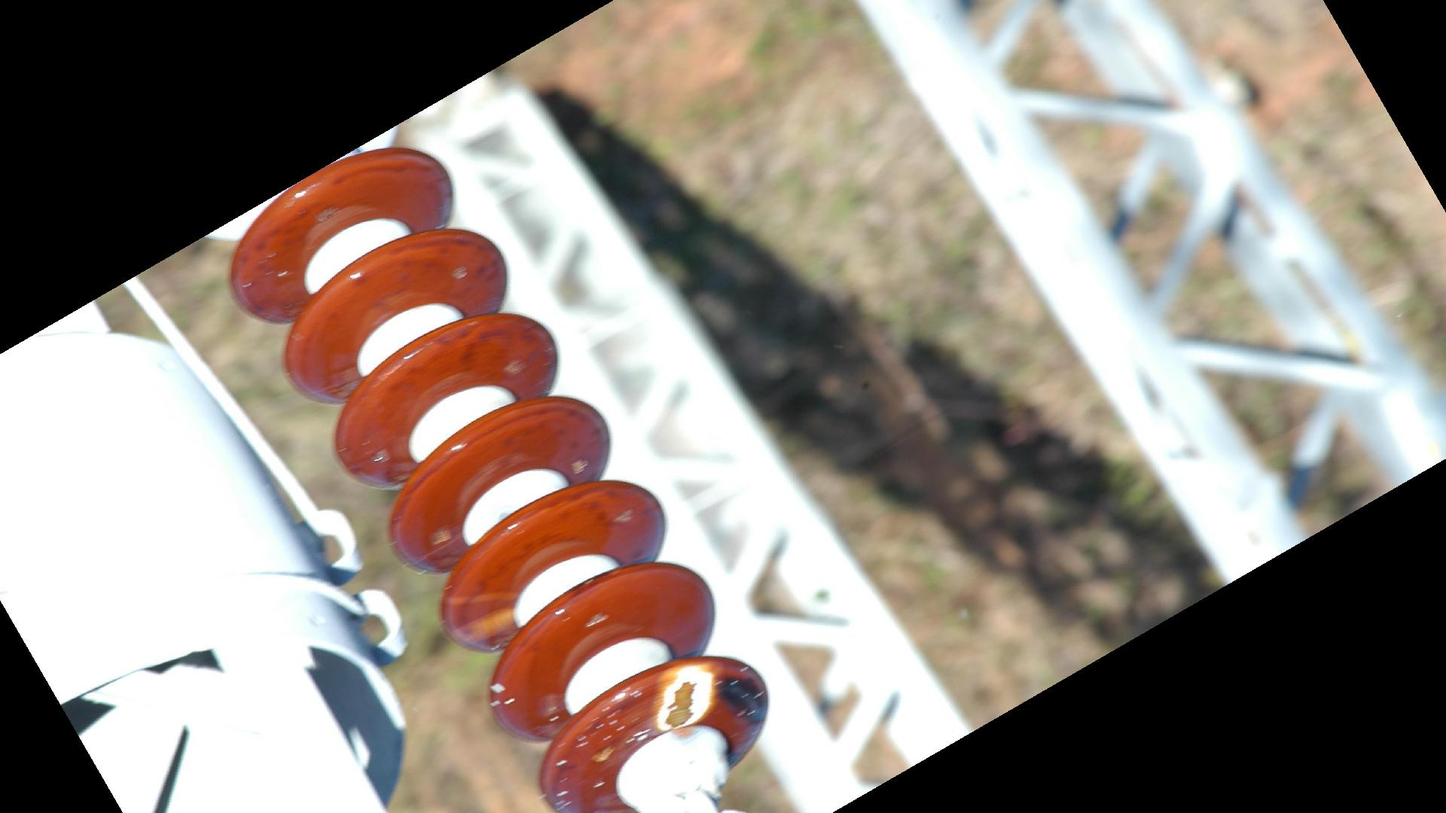insulator: (220, 141, 776, 813)
insulator_flashover: (654, 661, 717, 734), (449, 606, 516, 648)
